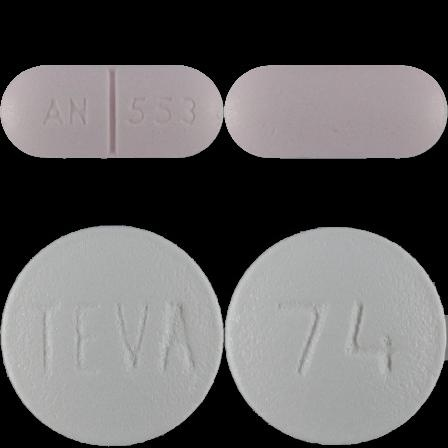55700-342: (0, 0, 224, 224)
